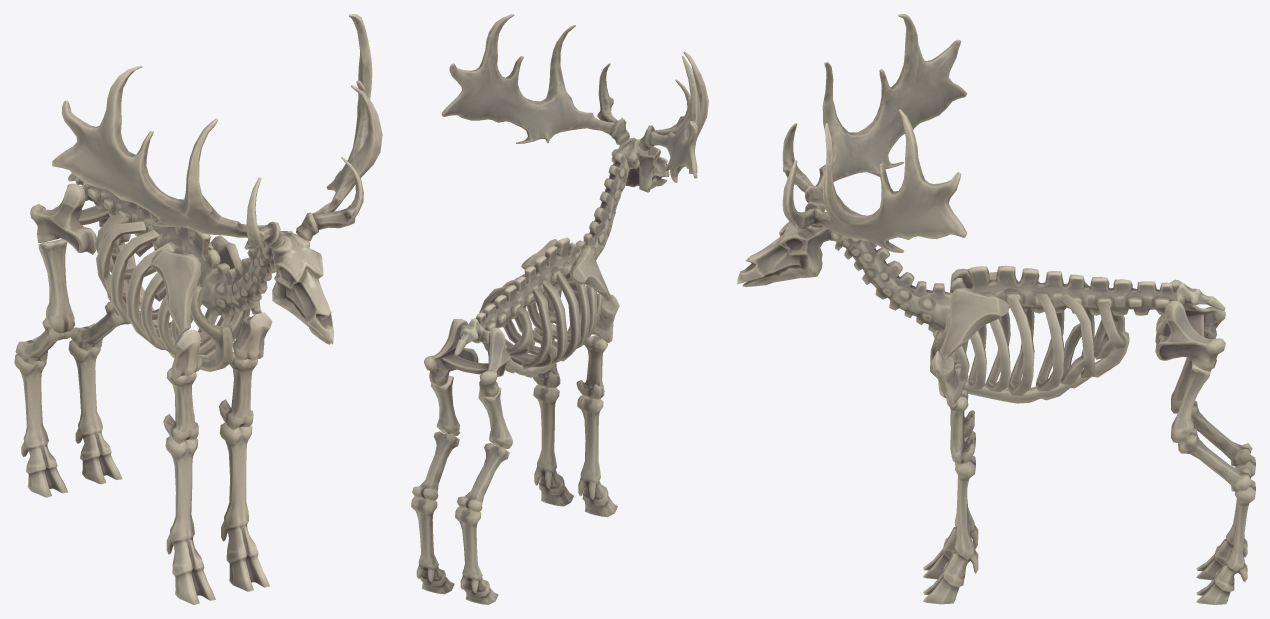
The model's file is deer.glb.
3 renders of one model, left to right at view 1: azimuth 30°, elevation 25°; view 2: azimuth 150°, elevation 25°; view 3: azimuth 270°, elevation 25°, orthographic. The views are drawn at different scales.
Visible parts, largest first — view 1: Plane.014, Plane.013, Plane.012, Plane.028, Plane.029, Plane.016, Plane, Plane.002, Plane.015, Plane.011, Plane.010, Plane.004 (+14 smaller); view 2: Plane.013, Plane.015, Plane.014, Plane.011, Plane.029, Plane.028, Plane.016, Plane, Plane.002, Plane.012, Plane.025, Plane.006 (+13 smaller); view 3: Plane.014, Plane.013, Plane.015, Plane.016, Plane.012, Plane.011, Plane.028, Plane.009, Plane, Plane.027, Plane.025, Plane.023 (+11 smaller).
Part boxes in pixels (<box>): Plane.014: <box>52,65,284,249</box>; Plane.013: <box>296,14,382,241</box>; Plane.012: <box>262,231,333,344</box>; Plane.028: <box>219,422,269,591</box>; Plane.029: <box>165,436,215,604</box>; Plane.016: <box>199,244,275,318</box>; Plane: <box>68,340,122,484</box>; Plane.002: <box>14,354,67,497</box>; Plane.015: <box>68,173,220,287</box>; Plane.011: <box>30,183,130,254</box>; Plane.010: <box>150,249,201,334</box>; Plane.004: <box>38,239,74,333</box>; Plane.013: <box>441,14,629,145</box>; Plane.015: <box>454,237,577,355</box>; Plane.014: <box>639,51,708,182</box>; Plane.011: <box>424,319,509,397</box>; Plane.029: <box>577,395,617,517</box>; Plane.028: <box>533,385,573,506</box>; Plane.016: <box>567,152,629,291</box>; Plane: <box>411,496,454,594</box>; Plane.002: <box>455,507,498,604</box>; Plane.012: <box>611,137,669,192</box>; Plane.025: <box>479,284,557,369</box>; Plane.006: <box>457,443,509,511</box>; Plane.014: <box>782,14,967,211</box>; Plane.013: <box>782,109,967,252</box>; Plane.015: <box>950,265,1225,316</box>; Plane.016: <box>835,235,951,332</box>; Plane.012: <box>737,211,840,286</box>; Plane.011: <box>1155,279,1225,371</box>; Plane.028: <box>923,456,978,604</box>; Plane.009: <box>939,287,1009,359</box>; Plane: <box>1196,479,1255,604</box>; Plane.027: <box>930,312,1129,403</box>; Plane.025: <box>1058,282,1094,384</box>; Plane.023: <box>1006,295,1034,396</box>.
Size of the model in its own units: 1.1 by 1.89 by 1.69.
1 material, 1 textured.
